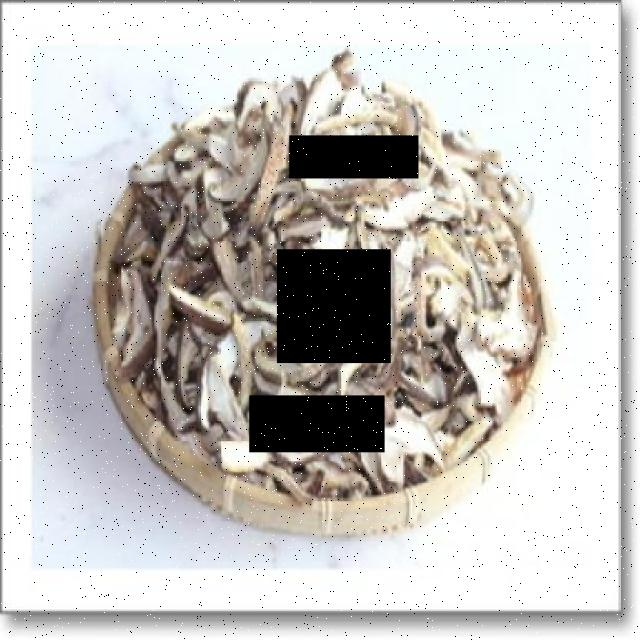Mushroom: (278, 250, 392, 362), (249, 396, 385, 452), (289, 135, 419, 179)
